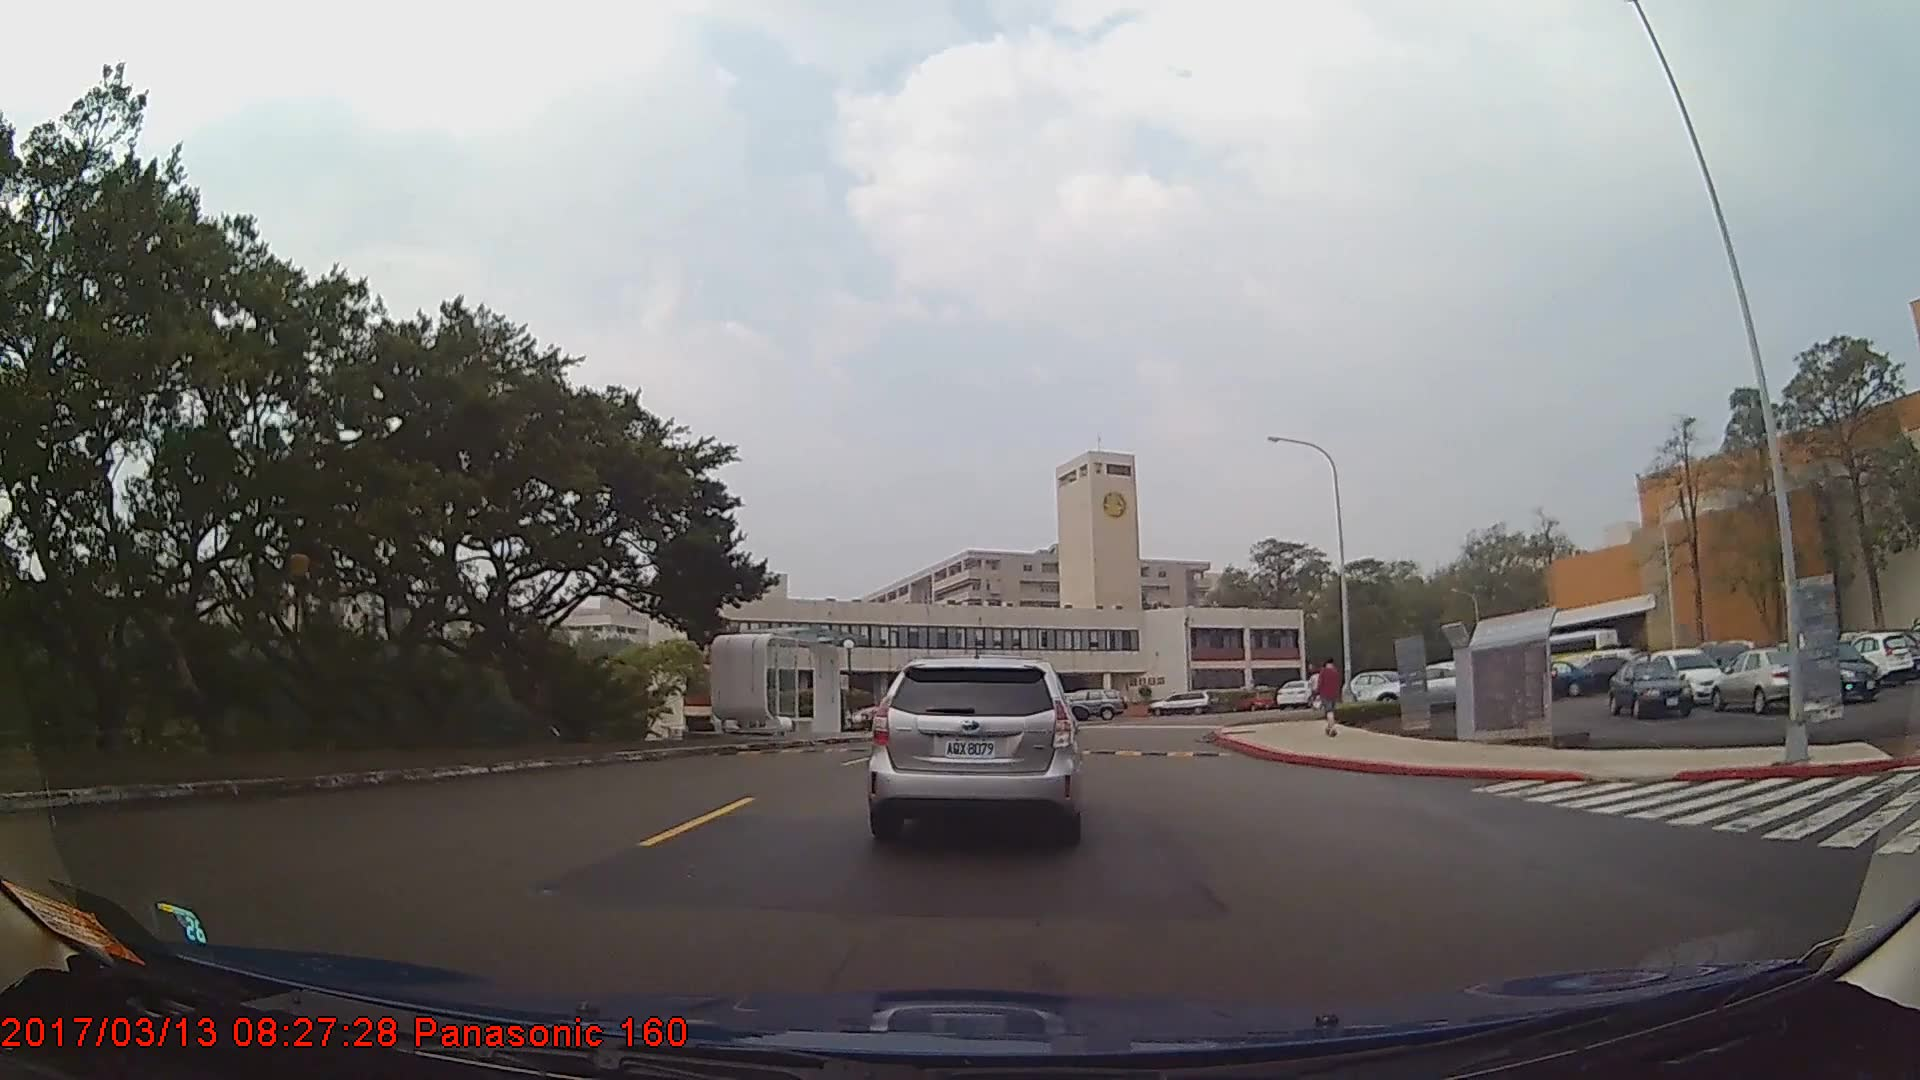pedestrian: (1316, 656, 1346, 739)
vehicle: (871, 651, 1077, 843), (1708, 648, 1807, 711), (1801, 637, 1881, 702), (1610, 657, 1692, 718), (1648, 647, 1723, 703), (1849, 630, 1911, 685), (1524, 659, 1593, 699), (1055, 686, 1128, 720), (1147, 688, 1213, 717), (1275, 677, 1318, 707)
